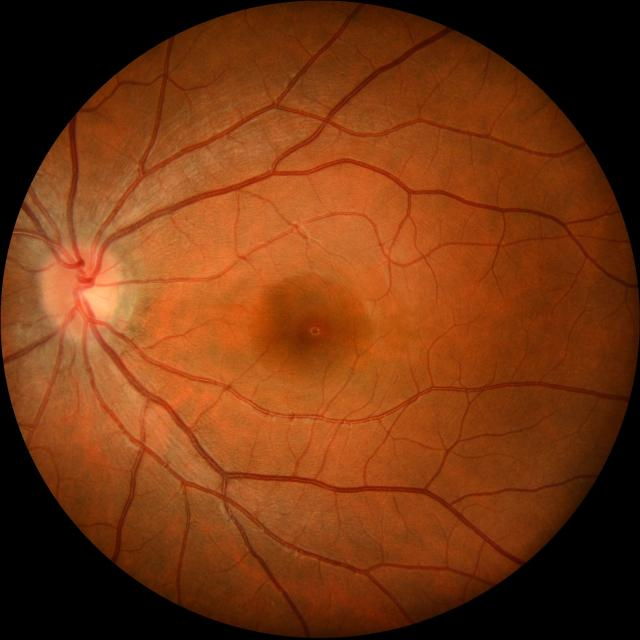OC: (80, 280, 108, 317)
OD: (44, 246, 122, 336)
